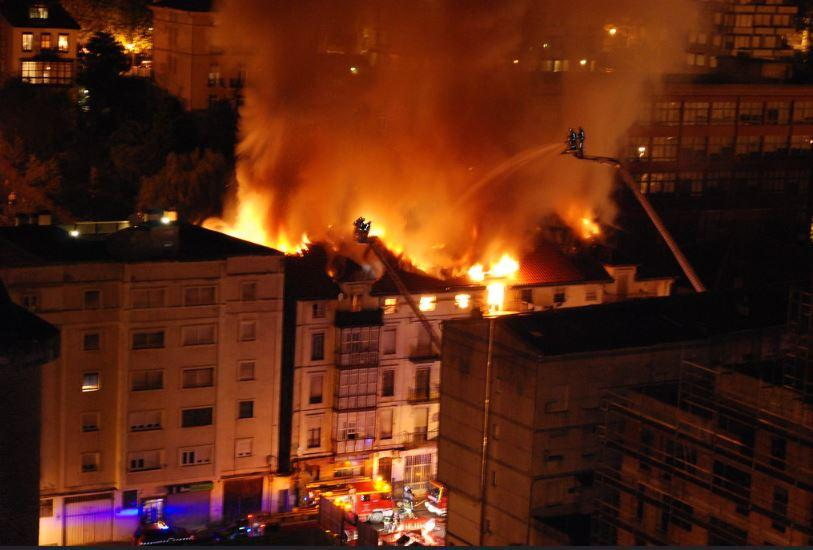Fire: (219, 212, 316, 261), (456, 251, 513, 309), (361, 218, 389, 242), (575, 216, 599, 239), (415, 295, 437, 313)
